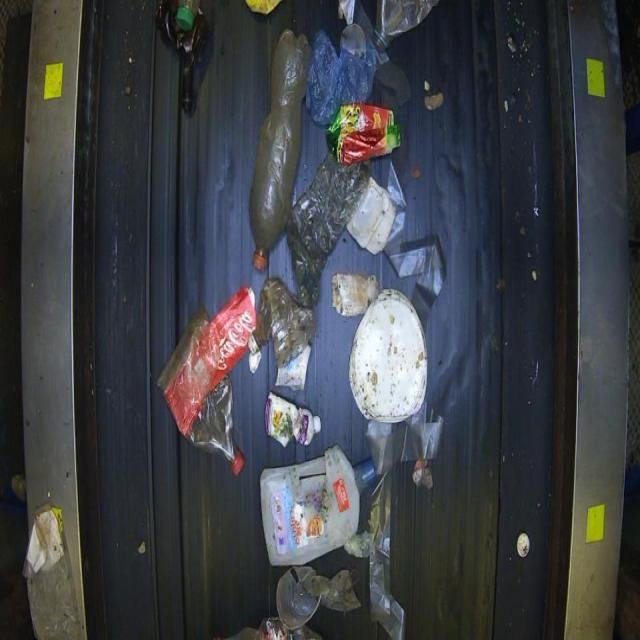cups: (263, 391, 321, 447)
trashbin: (258, 443, 361, 566)
